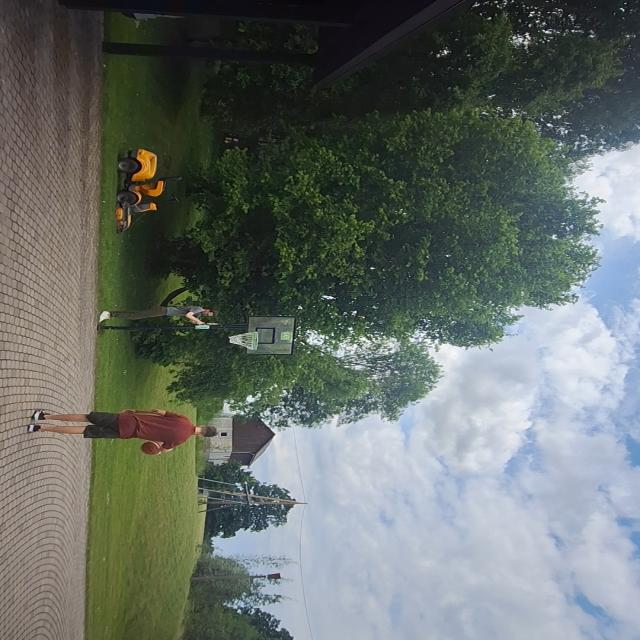ball: (137, 440, 169, 458)
hoop: (228, 329, 262, 353)
player: (27, 407, 226, 457), (98, 302, 224, 328)
